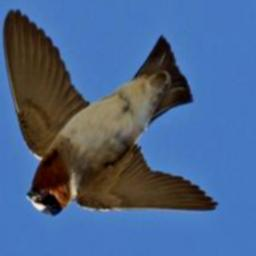Swallow: (0, 7, 221, 217)
